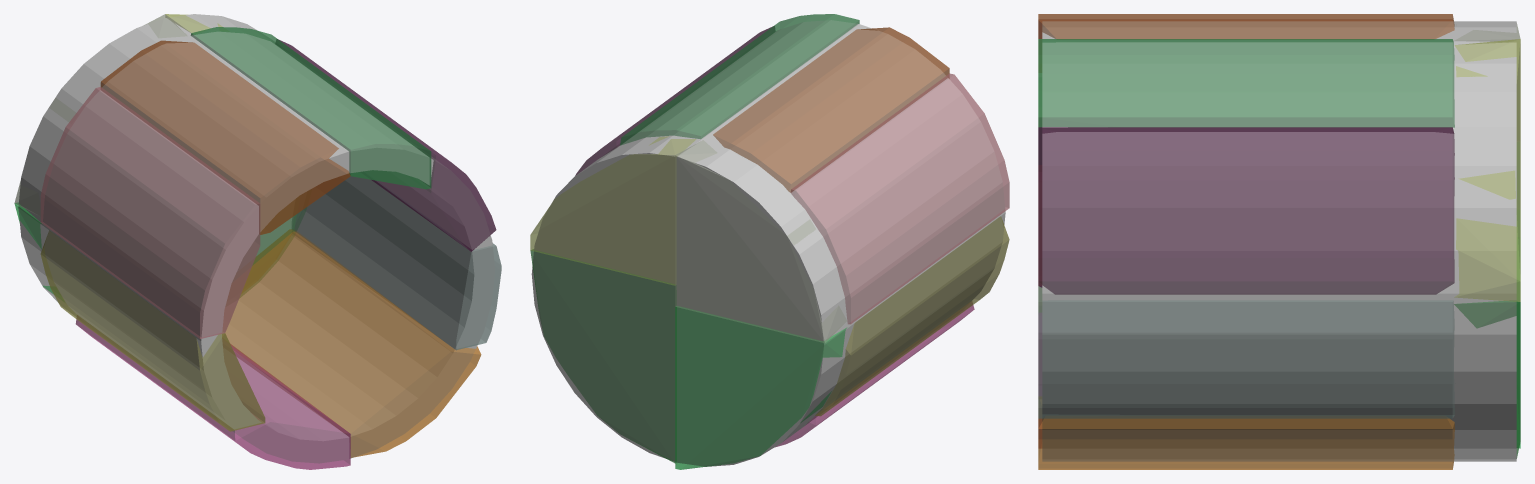
File: mug.obj
The picture shows the model from 3 angles, left to right: view 1: azimuth 30°, elevation 25°; view 2: azimuth 150°, elevation 25°; view 3: azimuth 270°, elevation 25°; orthographic projection. The views are drawn at different scales.
Visible parts, largest first — view 1: Mug_GM_Mesh, Mug_ACD.004_Mug_ACD.005, Mug_ACD.011_Mug_ACD, Mug_ACD.005_Mug_ACD.006, Mug_ACD.010_Mug_ACD.011, Mug_ACD.006_Mug_ACD.007, Mug_ACD.008_Mug_ACD.009, Mug_ACD.007_Mug_ACD.008, Mug_ACD.009_Mug_ACD.010, Mug_ACD.003_Mug_ACD.004, Mug_ACD_Mug_ACD.001, Mug_ACD.001_Mug_ACD.002; view 2: Mug_GM_Mesh, Mug_ACD.004_Mug_ACD.005, Mug_ACD.003_Mug_ACD.004, Mug_ACD.001_Mug_ACD.002, Mug_ACD.005_Mug_ACD.006, Mug_ACD_Mug_ACD.001, Mug_ACD.002_Mug_ACD.003, Mug_ACD.006_Mug_ACD.007, Mug_ACD.008_Mug_ACD.009, Mug_ACD.009_Mug_ACD.010, Mug_ACD.007_Mug_ACD.008; view 3: Mug_GM_Mesh, Mug_ACD.009_Mug_ACD.010, Mug_ACD.010_Mug_ACD.011, Mug_ACD.008_Mug_ACD.009, Mug_ACD.011_Mug_ACD, Mug_ACD.005_Mug_ACD.006, Mug_ACD.002_Mug_ACD.003, Mug_ACD.003_Mug_ACD.004, Mug_ACD_Mug_ACD.001, Mug_ACD.004_Mug_ACD.005, Mug_ACD.001_Mug_ACD.002.
Part boxes in pixels (left/top/right/bottom): Mug_GM_Mesh: left=18, top=14, right=494, bottom=463; Mug_ACD.004_Mug_ACD.005: left=40, top=87, right=260, bottom=338; Mug_ACD.011_Mug_ACD: left=225, top=229, right=481, bottom=457; Mug_ACD.005_Mug_ACD.006: left=100, top=40, right=350, bottom=234; Mug_ACD.010_Mug_ACD.011: left=292, top=176, right=501, bottom=350; Mug_ACD.006_Mug_ACD.007: left=40, top=230, right=265, bottom=431; Mug_ACD.008_Mug_ACD.009: left=190, top=27, right=431, bottom=189; Mug_ACD.007_Mug_ACD.008: left=75, top=315, right=350, bottom=469; Mug_ACD.009_Mug_ACD.010: left=276, top=39, right=496, bottom=251; Mug_ACD.003_Mug_ACD.004: left=240, top=207, right=306, bottom=297; Mug_ACD_Mug_ACD.001: left=14, top=14, right=187, bottom=216; Mug_ACD.001_Mug_ACD.002: left=14, top=202, right=53, bottom=293; Mug_GM_Mesh: left=531, top=20, right=1005, bottom=466; Mug_ACD.004_Mug_ACD.005: left=790, top=73, right=1009, bottom=324; Mug_ACD.003_Mug_ACD.004: left=530, top=249, right=676, bottom=463; Mug_ACD.001_Mug_ACD.002: left=675, top=306, right=846, bottom=469; Mug_ACD.005_Mug_ACD.006: left=713, top=27, right=949, bottom=192; Mug_ACD_Mug_ACD.001: left=675, top=140, right=846, bottom=342; Mug_ACD.002_Mug_ACD.003: left=530, top=136, right=696, bottom=285; Mug_ACD.006_Mug_ACD.007: left=815, top=216, right=1009, bottom=416; Mug_ACD.008_Mug_ACD.009: left=620, top=14, right=859, bottom=145; Mug_ACD.009_Mug_ACD.010: left=575, top=26, right=774, bottom=175; Mug_ACD.007_Mug_ACD.008: left=775, top=302, right=974, bottom=447; Mug_GM_Mesh: left=1042, top=21, right=1516, bottom=461; Mug_ACD.009_Mug_ACD.010: left=1038, top=127, right=1454, bottom=294; Mug_ACD.010_Mug_ACD.011: left=1038, top=286, right=1454, bottom=418; Mug_ACD.008_Mug_ACD.009: left=1038, top=39, right=1454, bottom=164; Mug_ACD.011_Mug_ACD: left=1038, top=397, right=1454, bottom=469; Mug_ACD.005_Mug_ACD.006: left=1038, top=14, right=1454, bottom=72; Mug_ACD.002_Mug_ACD.003: left=1454, top=39, right=1520, bottom=301; Mug_ACD.003_Mug_ACD.004: left=1454, top=210, right=1520, bottom=458; Mug_ACD_Mug_ACD.001: left=1454, top=23, right=1520, bottom=209; Mug_ACD.004_Mug_ACD.005: left=1038, top=20, right=1452, bottom=126; Mug_ACD.001_Mug_ACD.002: left=1517, top=302, right=1520, bottom=448.
Size of the model in its own units: 0.1025 by 0.1025 by 0.1094.
